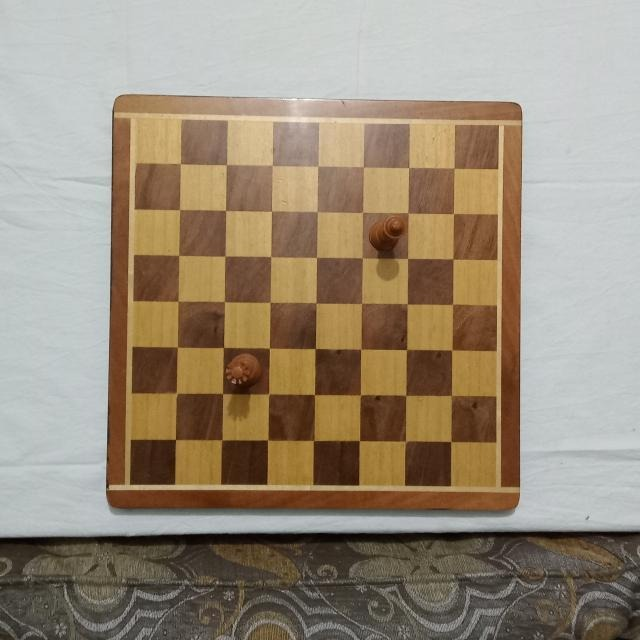white-king: (368, 215, 408, 253)
white-queen: (223, 352, 264, 392)
